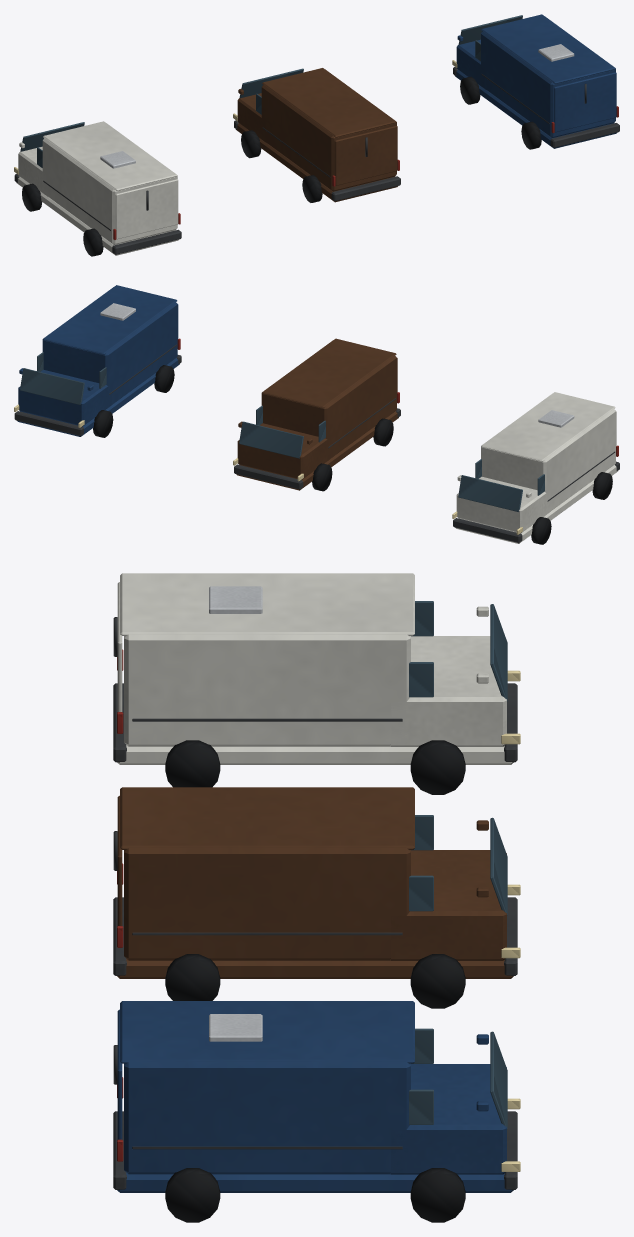
File: parked_car_van.glb
3 views of the same model, one above another, from view 1: azimuth 30°, elevation 25°; view 2: azimuth 150°, elevation 25°; view 3: azimuth 270°, elevation 25° (orthographic). The views are drawn at different scales.
Visible parts, largest first — view 1: parked_car_van_v1, parked_car_van_v3, parked_car_van_v2; view 2: parked_car_van_v3, parked_car_van_v2, parked_car_van_v1; view 3: parked_car_van_v3, parked_car_van_v1, parked_car_van_v2.
Boxes of the visible parts, x1=… form: parked_car_van_v1: x1=14, y1=121, x2=181, y2=256; parked_car_van_v3: x1=452, y1=14, x2=619, y2=149; parked_car_van_v2: x1=233, y1=68, x2=400, y2=202; parked_car_van_v3: x1=14, y1=285, x2=181, y2=437; parked_car_van_v2: x1=233, y1=338, x2=400, y2=491; parked_car_van_v1: x1=452, y1=392, x2=619, y2=544; parked_car_van_v3: x1=113, y1=1001, x2=520, y2=1222; parked_car_van_v1: x1=113, y1=573, x2=520, y2=794; parked_car_van_v2: x1=113, y1=787, x2=520, y2=1008.
Bounding box in the file's own units: 15.54 × 2.3 × 5.32.
Materials: 2 (2 with a texture image).
